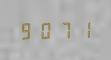nine: (18, 20, 35, 40)
one: (72, 19, 89, 39)
seven: (54, 20, 71, 39)
zero: (36, 20, 53, 40)
